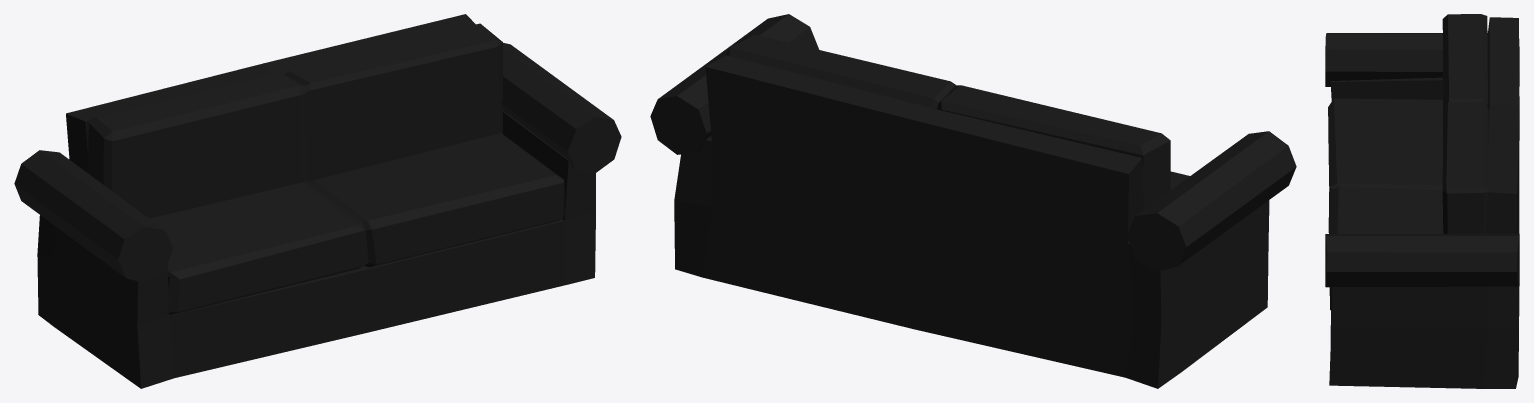
Rendered from couch.fbx.
The picture shows the model from 3 angles, left to right: view 1: azimuth 30°, elevation 25°; view 2: azimuth 150°, elevation 25°; view 3: azimuth 270°, elevation 25°; orthographic projection. The views are drawn at different scales.
Visible parts, largest first — view 1: Cube; view 2: Cube; view 3: Cube.
Boxes of the visible parts, bbox=[...] form: Cube: bbox=[14, 14, 621, 388]; Cube: bbox=[650, 14, 1296, 388]; Cube: bbox=[1325, 14, 1519, 388].
Bounding box in the file's own units: 311 × 121 × 113.
